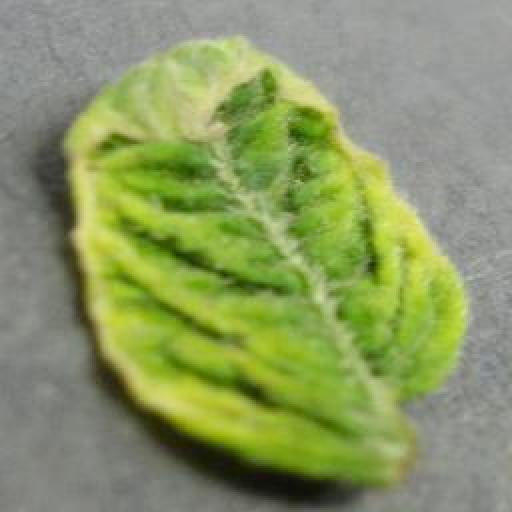disease_tomato: (60, 36, 474, 490)
